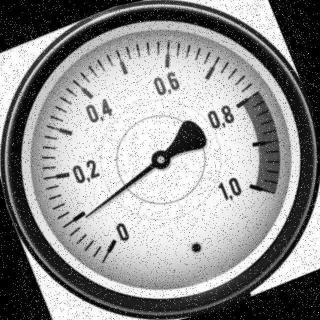gauge: (0, 0, 320, 320), (227, 160, 276, 210), (88, 220, 138, 266), (148, 146, 174, 172), (81, 208, 95, 222)
